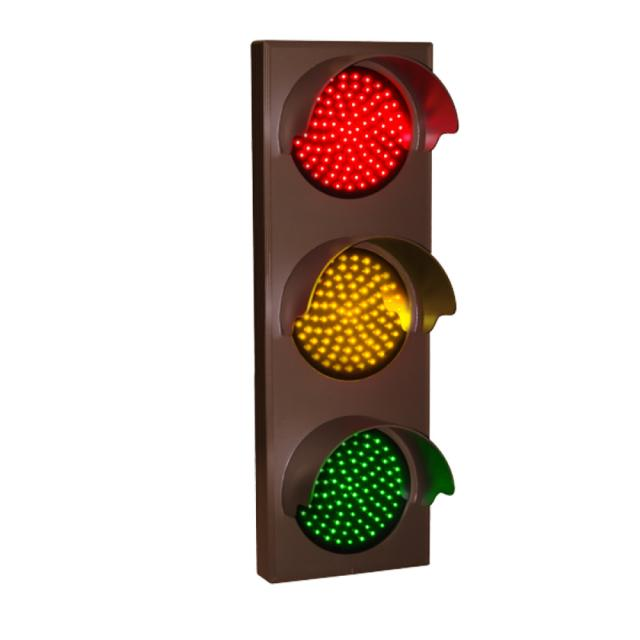green-lights: (288, 412, 436, 548)
red-lights: (282, 54, 421, 188)
yellow-lights: (258, 228, 422, 387)
